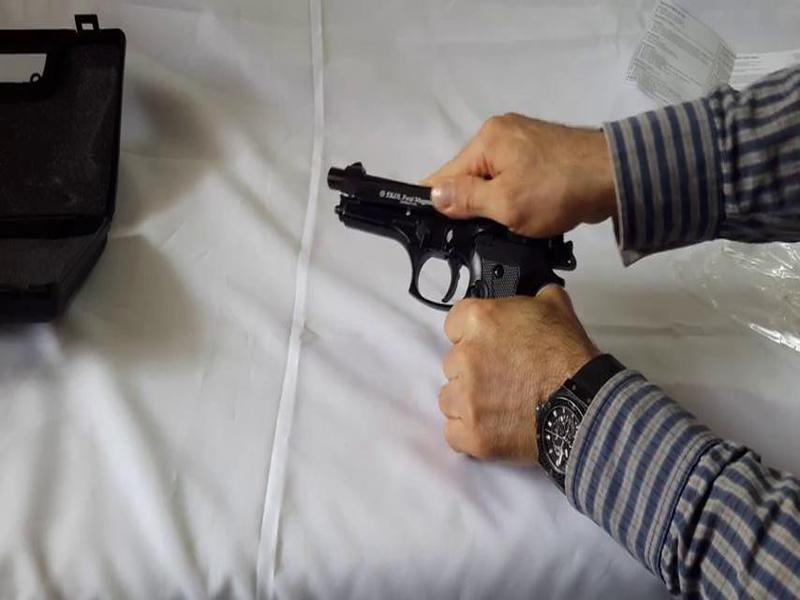Pistola: (299, 156, 573, 376)
